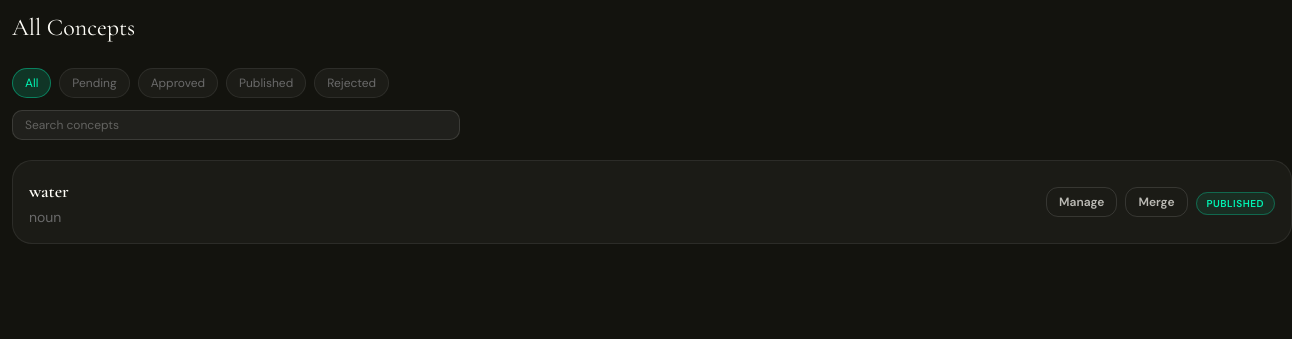
Scenario: Expanding published concepts › shows a loading state while variants load
Click the text "water" at point(49, 191), box [29, 177, 69, 205]
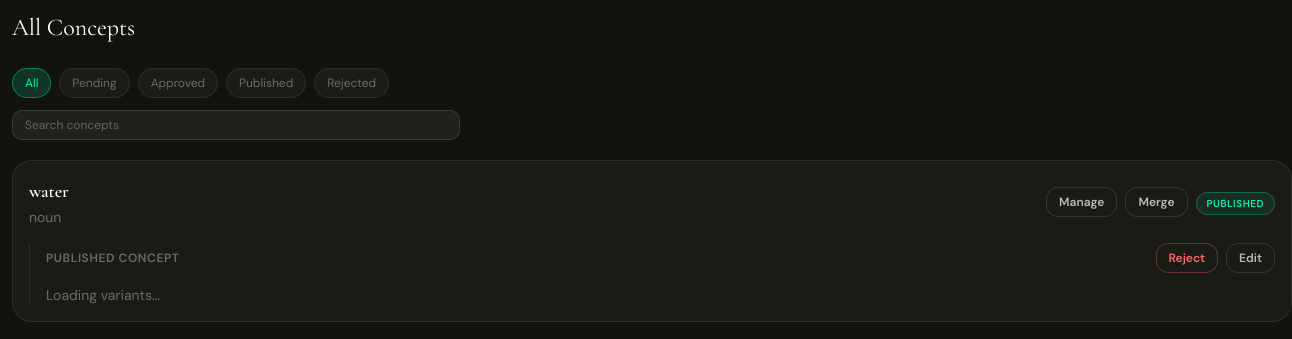
Expected: the text "Loading variants…" is shown, [46, 286, 160, 304]
